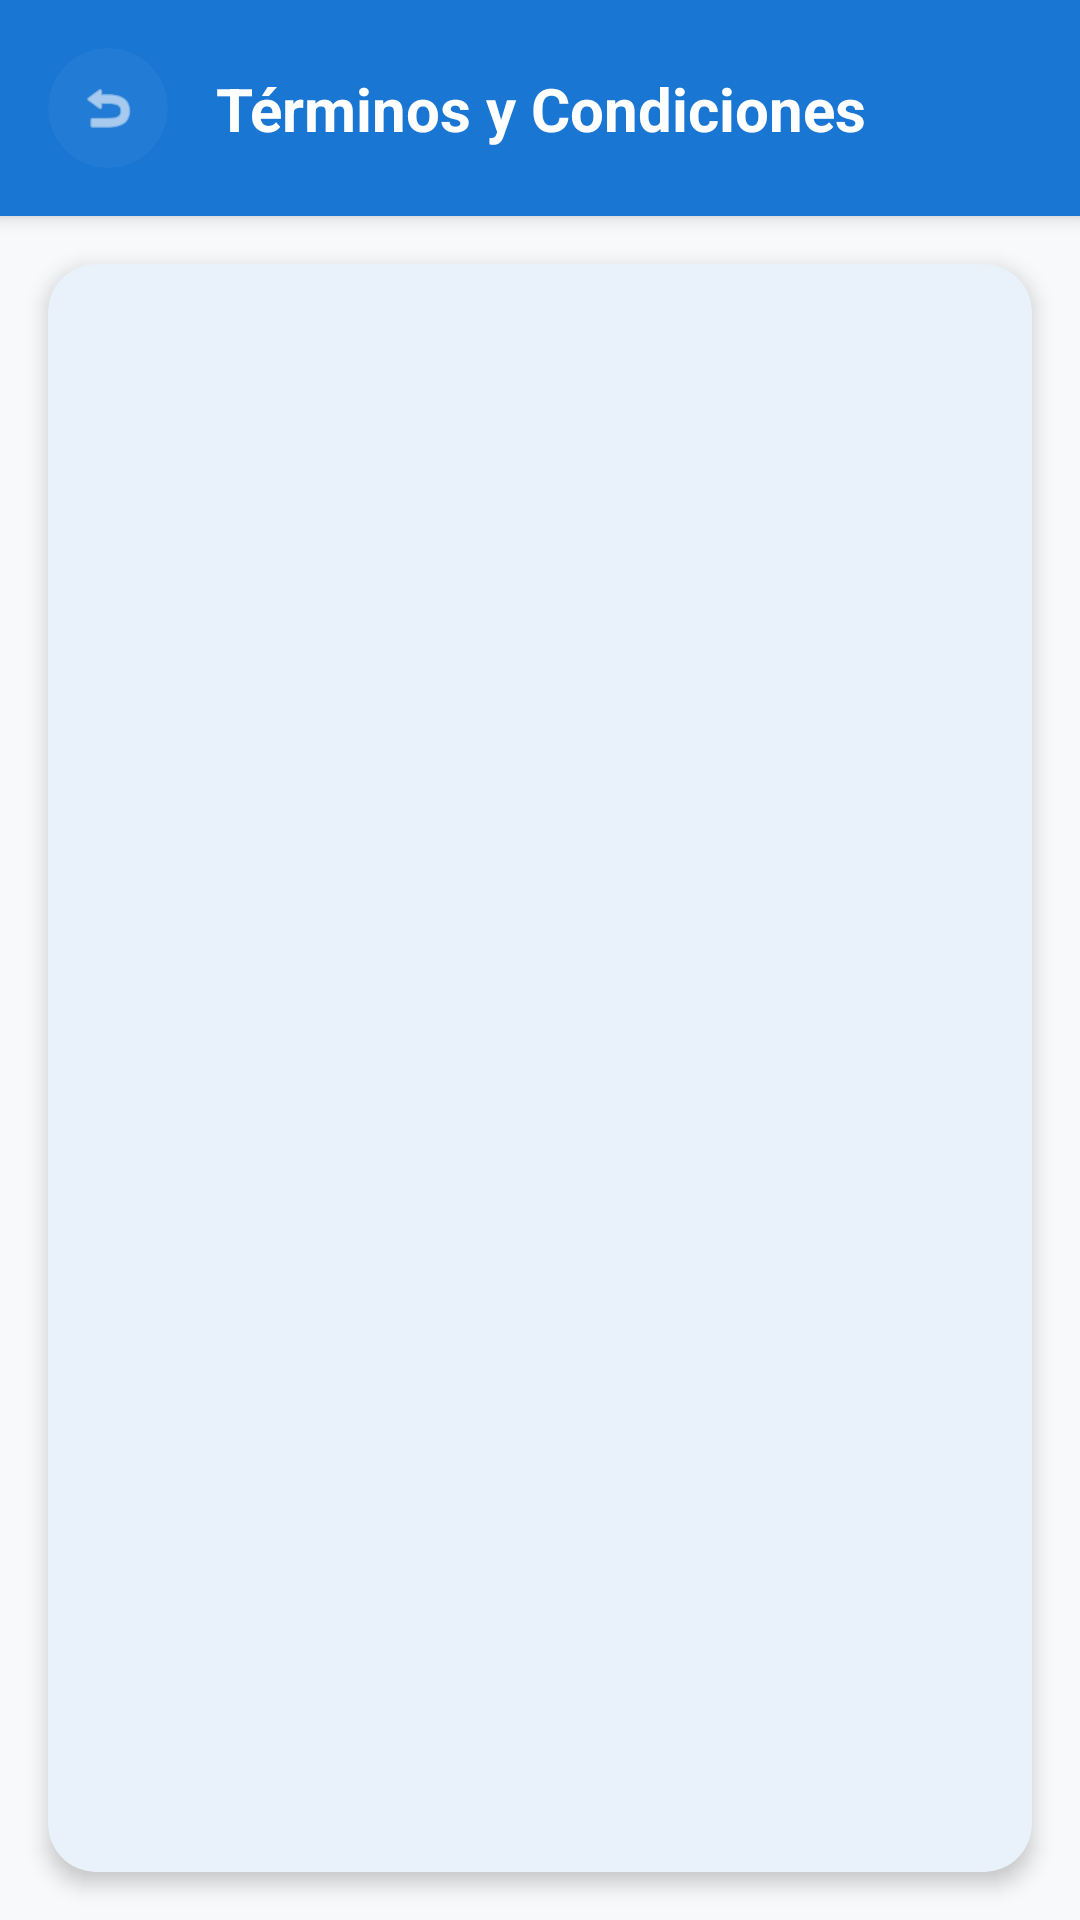

Locate icon controls on the screen. Image size 1080×1920, boxes as BBox(x1, y1, x2, y2).
revert: BBox(87, 89, 131, 128)
